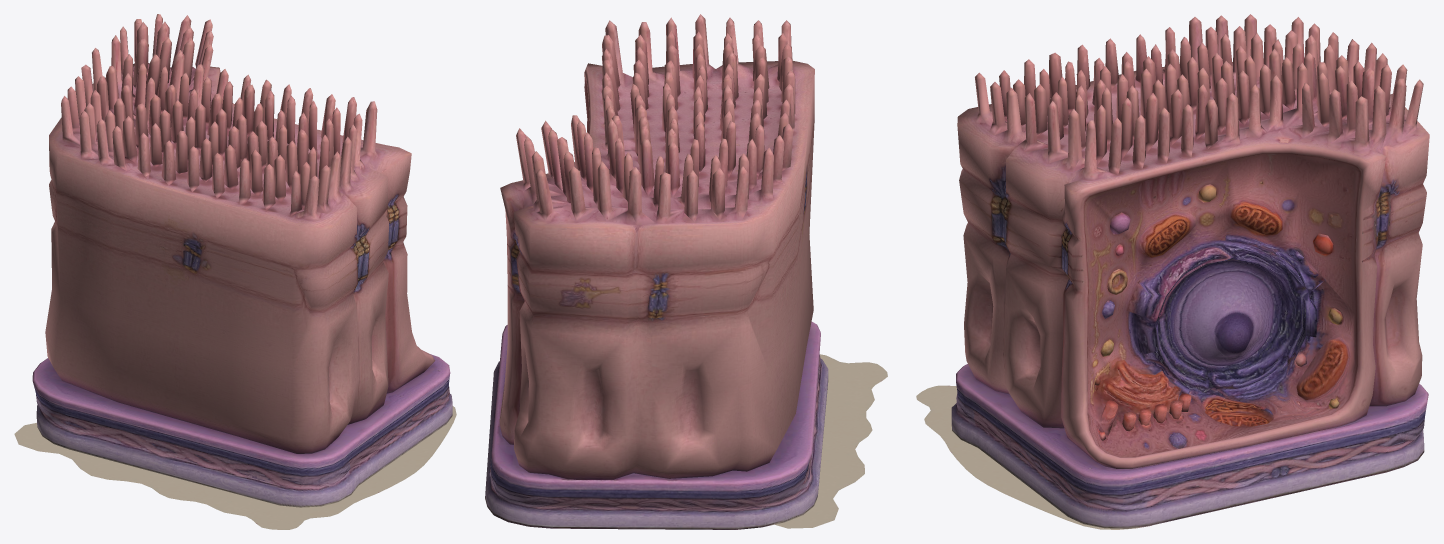
File: epithelial-tripo.failed-tripo.glb
3 views of the same model, side by side, from view 1: azimuth 30°, elevation 25°; view 2: azimuth 150°, elevation 25°; view 3: azimuth 270°, elevation 25° (orthographic). The views are drawn at different scales.
Visible parts, largest first — view 1: tripo_node_f3055077-ef6e-49ae-9d00-53679bc75b16; view 2: tripo_node_f3055077-ef6e-49ae-9d00-53679bc75b16; view 3: tripo_node_f3055077-ef6e-49ae-9d00-53679bc75b16.
Boxes of the visible parts, left/top/right/bottom form: tripo_node_f3055077-ef6e-49ae-9d00-53679bc75b16: left=14, top=14, right=456, bottom=529; tripo_node_f3055077-ef6e-49ae-9d00-53679bc75b16: left=485, top=14, right=887, bottom=529; tripo_node_f3055077-ef6e-49ae-9d00-53679bc75b16: left=916, top=14, right=1429, bottom=529.
Bounding box in the file's own units: 1.04 × 0.916 × 1.15.
1 material, 1 textured.
